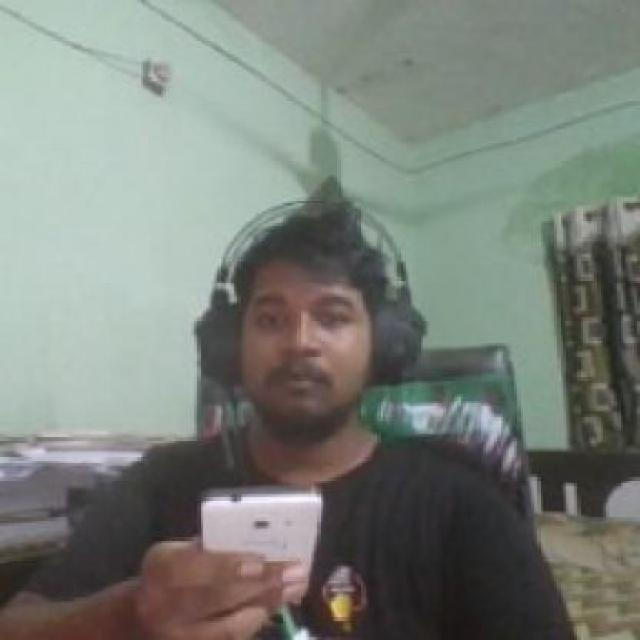Phone: (199, 489, 326, 609)
